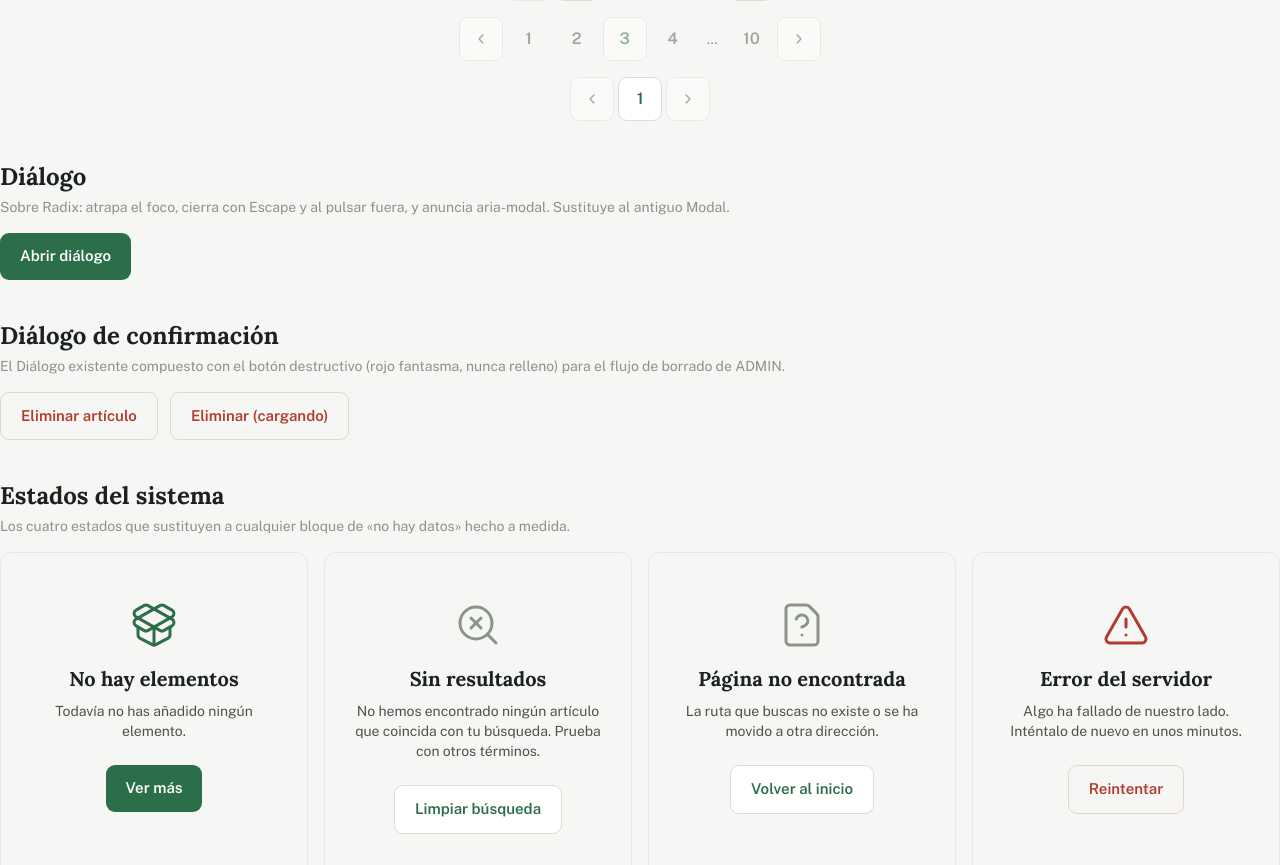
Test: UiComponentsPage › opens the confirm dialog and records the action when confirmed
(page scrolled)
Step 1. Click the button "Eliminar artículo" → (79, 416), box [0,392,158,440]
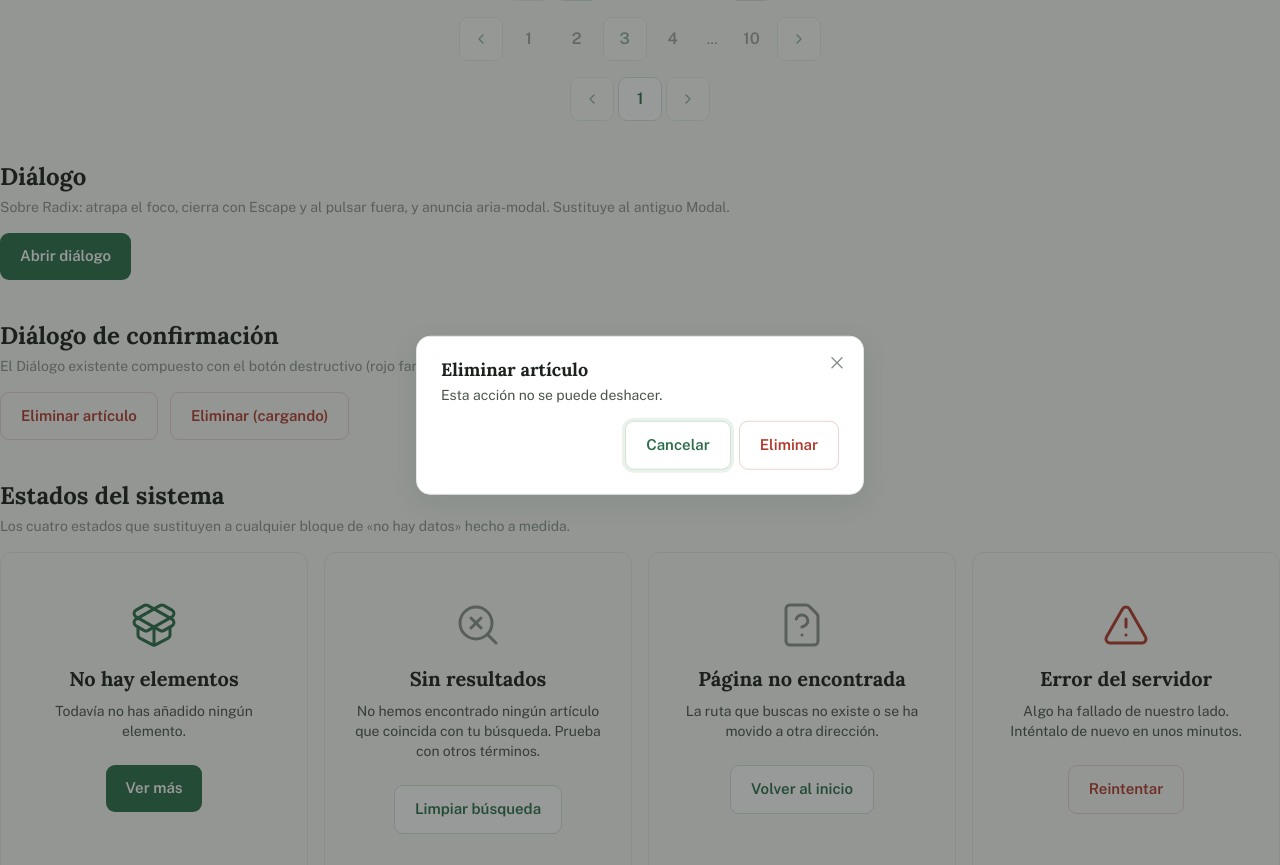
Check: the heading "Eliminar artículo" is shown, box [441,358,588,381]
Step 2. Click the button "Eliminar" → (789, 445), box [739,421,839,469]
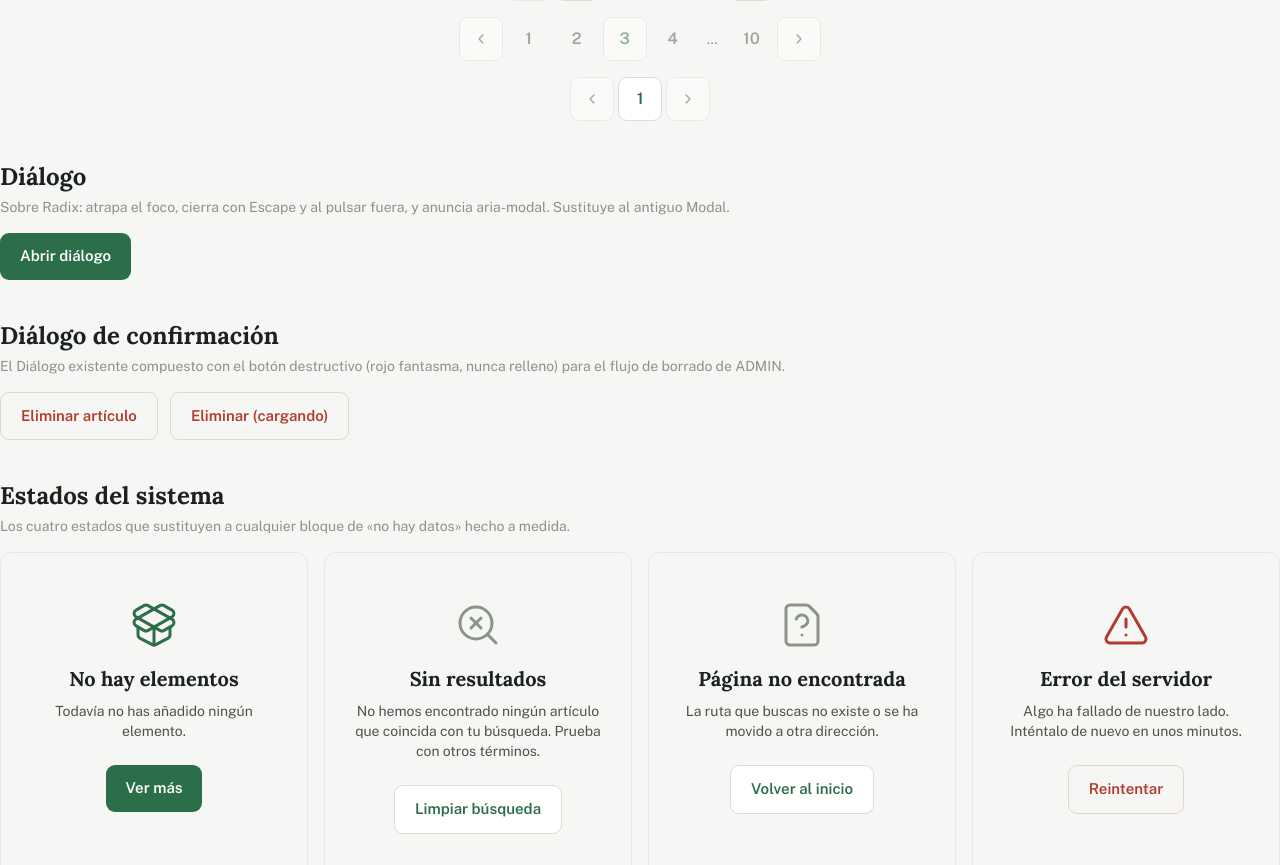
Check: the dialog is gone
